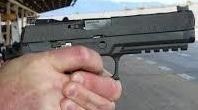gun: (1, 1, 198, 110)
